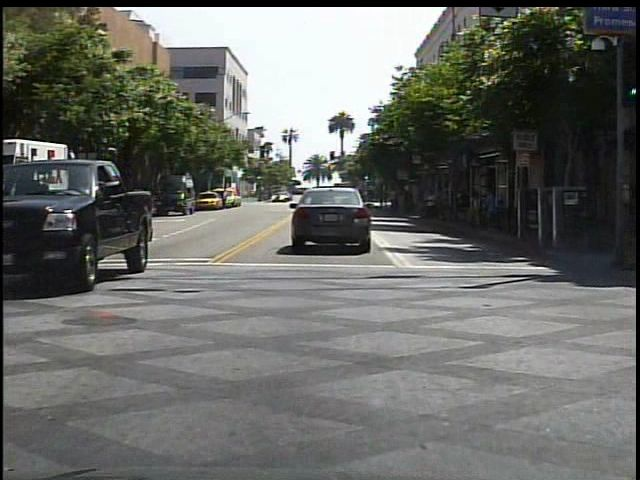person: (423, 186, 442, 223)
